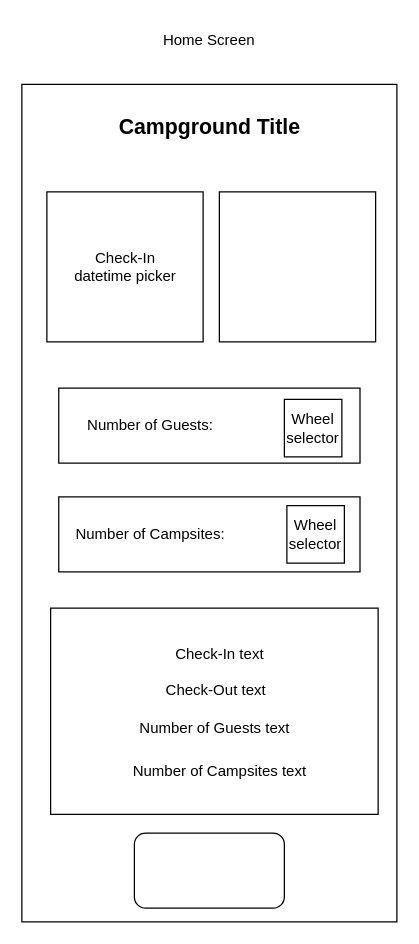
Some shapes in this 419 by 944 pixel diagram are drawn without their labels. The centre of each missing label's shape, as x and y in pixels:
Check-Out datetime picker: [297,266]
Reserve Now Button: [208,870]
